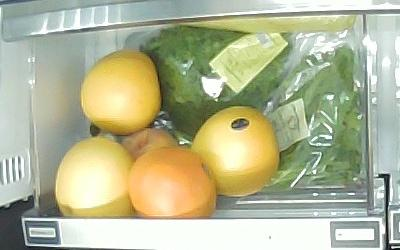grapefruit: (192, 106, 279, 196), (80, 50, 162, 134), (129, 147, 216, 219), (55, 137, 134, 216)
